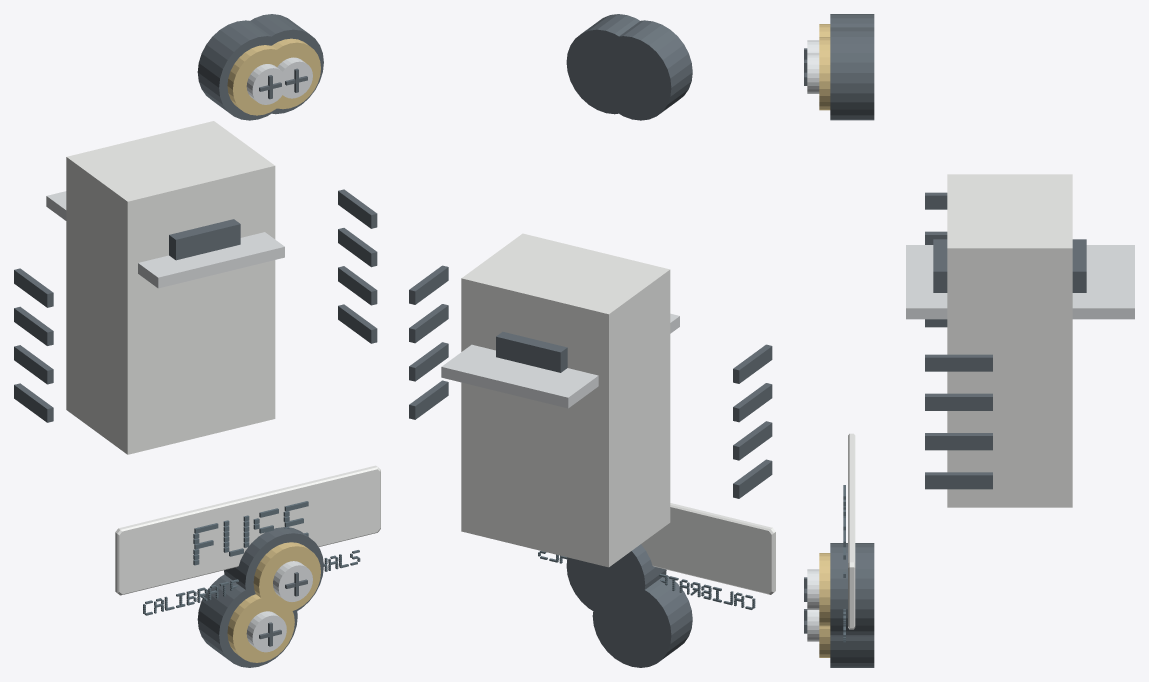
Rendered from fuse.glb.
3 views of the same model, side by side, from view 1: azimuth 30°, elevation 25°; view 2: azimuth 150°, elevation 25°; view 3: azimuth 270°, elevation 25° (orthographic). The views are drawn at different scales.
Parts seen in each view (by area): view 1: fuse-detailed; view 2: fuse-detailed; view 3: fuse-detailed.
Part boxes in pixels (bbox=[...]): fuse-detailed: bbox=[14, 14, 380, 667]; fuse-detailed: bbox=[409, 14, 775, 667]; fuse-detailed: bbox=[804, 14, 1134, 667].
Size of the model in its own units: 1.32 by 2.4 by 1.11.
